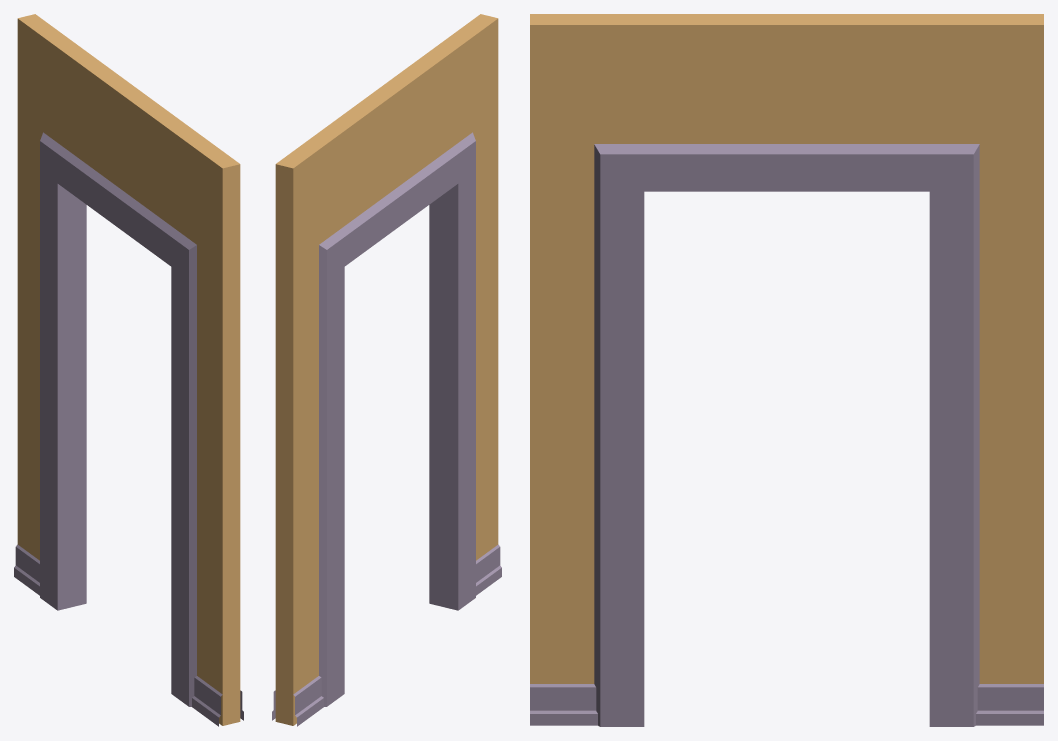
The model's file is Wall_DoorFrame.fbx.
3 renders of one model, left to right at view 1: azimuth 30°, elevation 25°; view 2: azimuth 150°, elevation 25°; view 3: azimuth 270°, elevation 25°, orthographic. The views are drawn at different scales.
Parts seen in each view (by area): view 1: Wall_DoorFrame; view 2: Wall_DoorFrame; view 3: Wall_DoorFrame.
Boxes of the visible parts, x1,y1,x2,y2 form: Wall_DoorFrame: (14,14,243,726); Wall_DoorFrame: (272,14,501,726); Wall_DoorFrame: (530,14,1043,726).
Bounding box in the file's own units: 0.1624 × 3 × 2.
